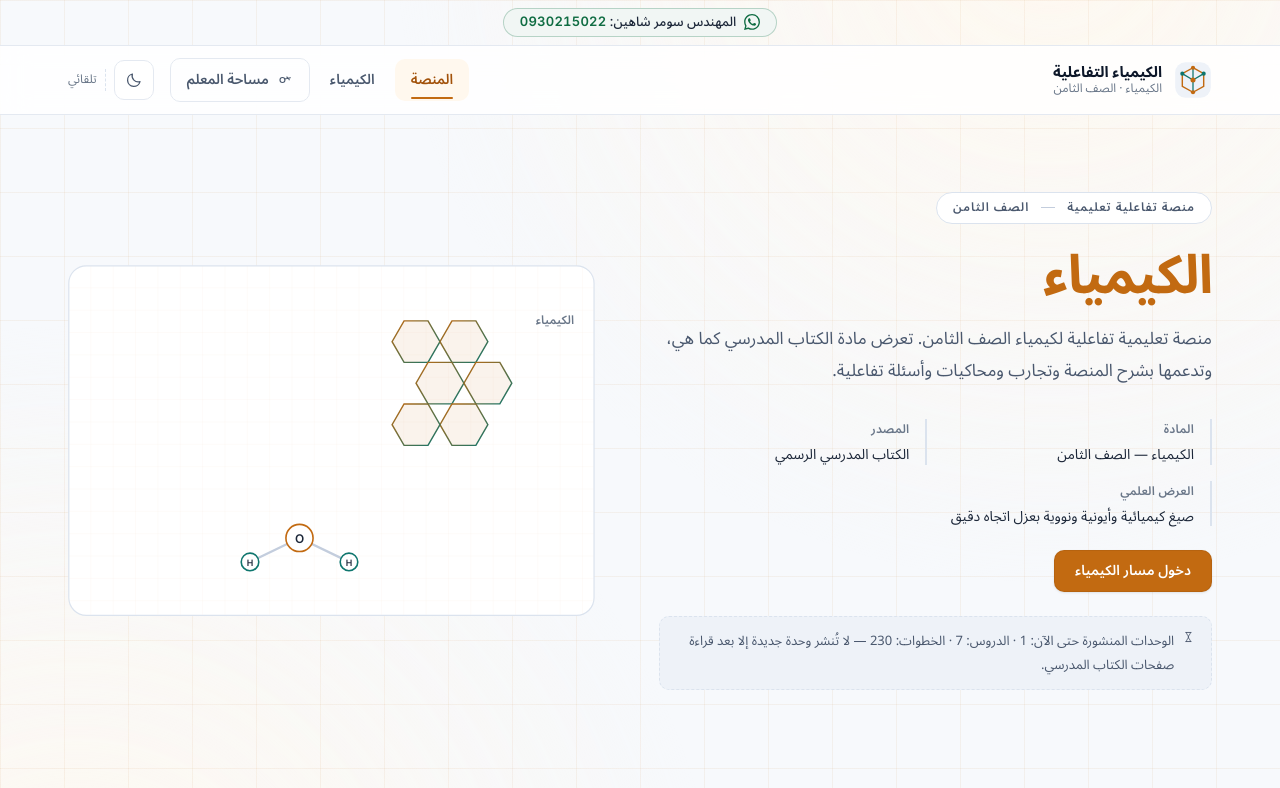
application boot and routing › navigates from the header to the teacher gate
This screenshot has width=1280, height=788.
Click the link "مساحة المعلم".
click(240, 80)  # box [170,58,310,102]
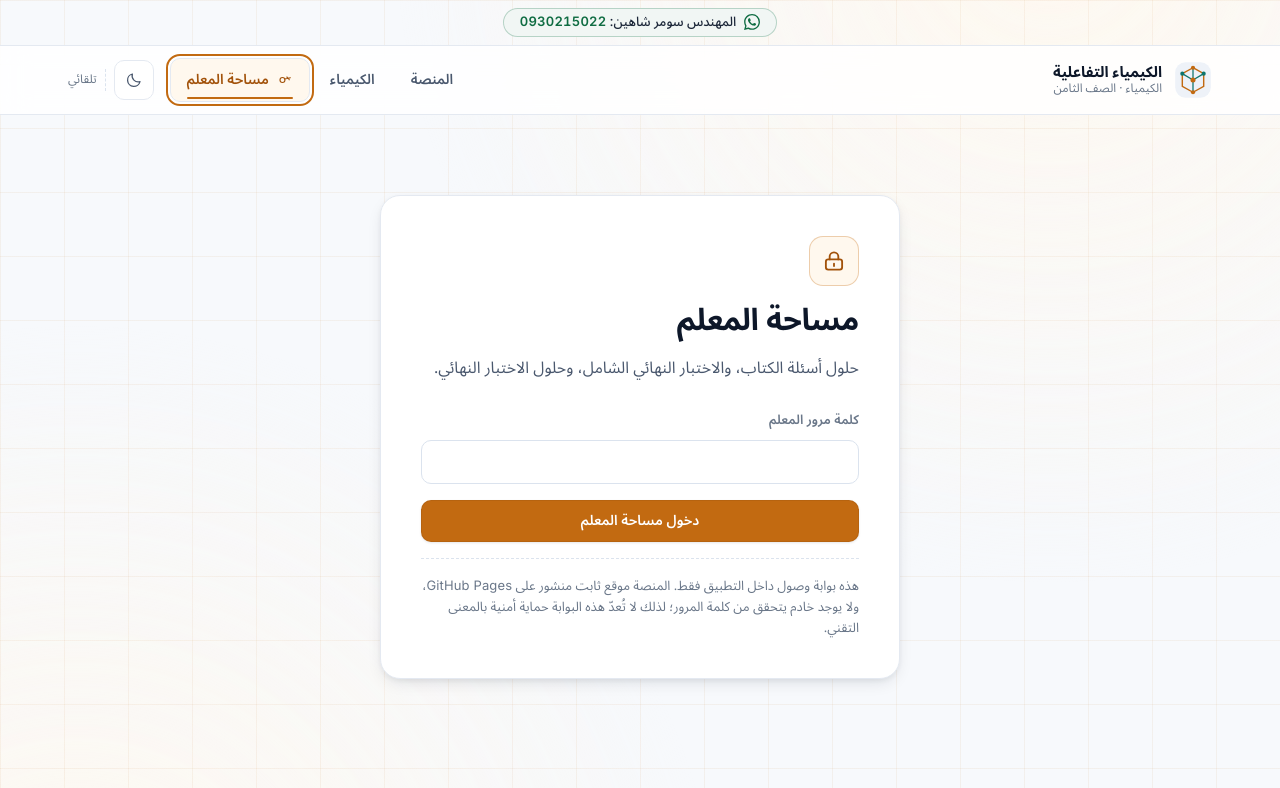
Expected: the heading "مساحة المعلم" is shown, [677,288,859,352]
Expected: the password field labelled "كلمة مرور المعلم" is shown, [421,440,859,484]
